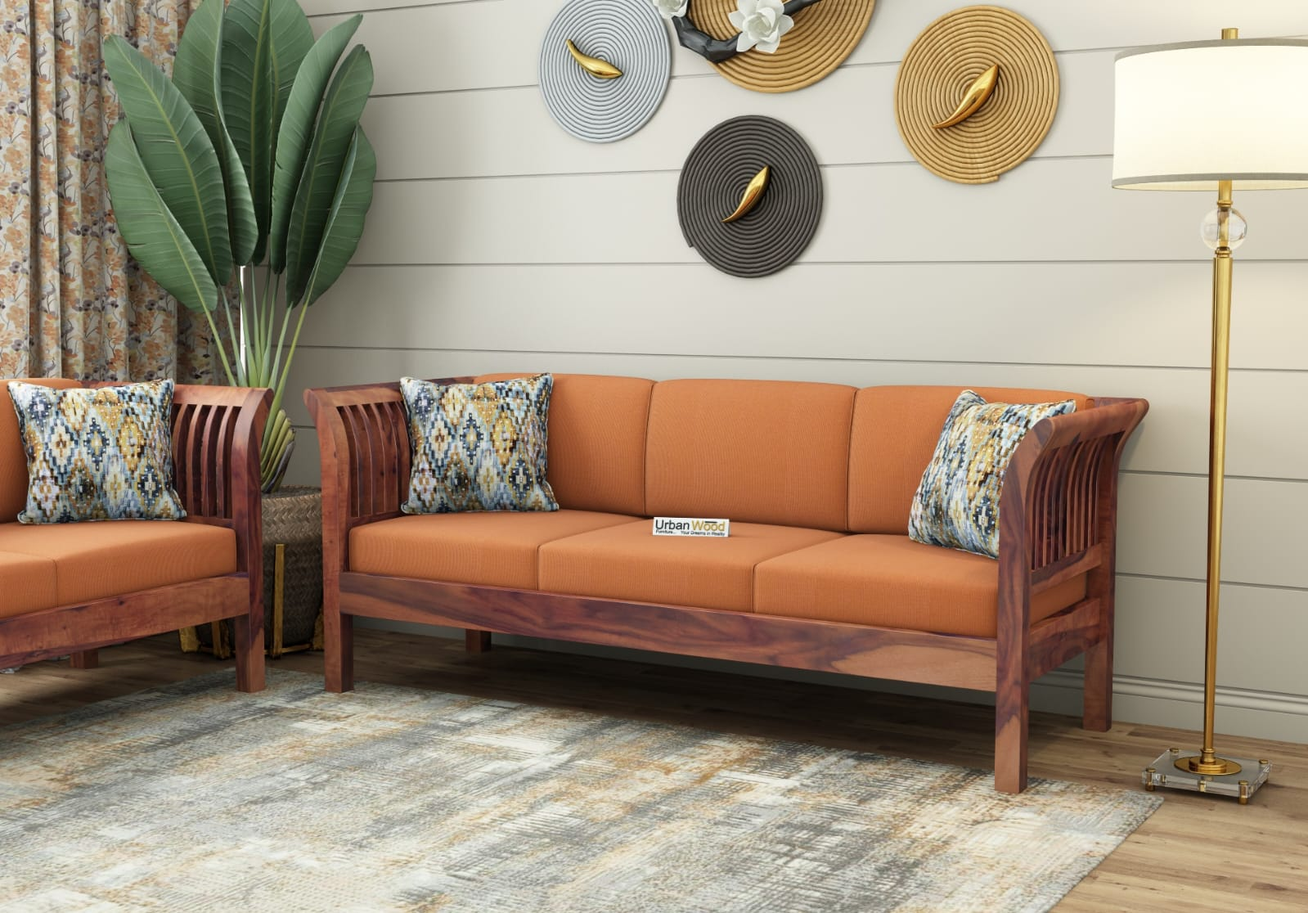3seatersofa: (304, 372, 1148, 793)
backrest: (549, 374, 1089, 533)
base: (340, 572, 995, 690)
leftarmrest: (997, 399, 1146, 639)
leg: (995, 628, 1028, 793), (325, 581, 353, 692), (1083, 635, 1112, 731)
pillow: (909, 390, 1075, 557), (401, 375, 558, 512)
rightarmrest: (305, 381, 408, 585)
seat: (352, 510, 995, 633)
